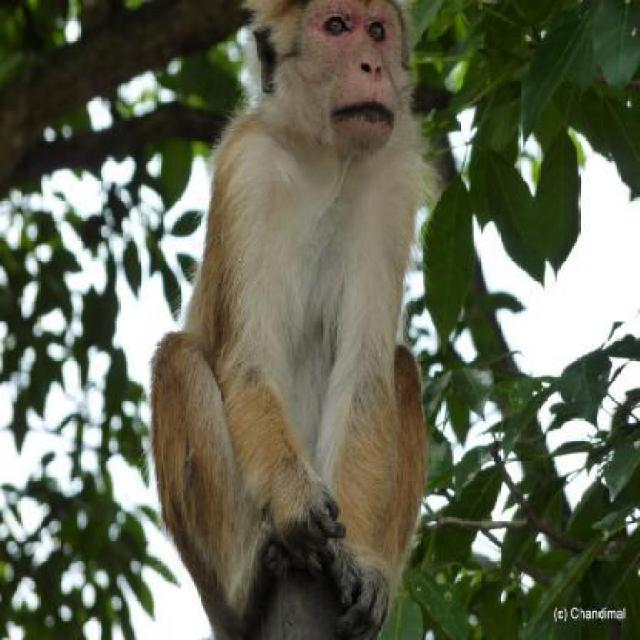Monkey: (143, 12, 442, 639)
